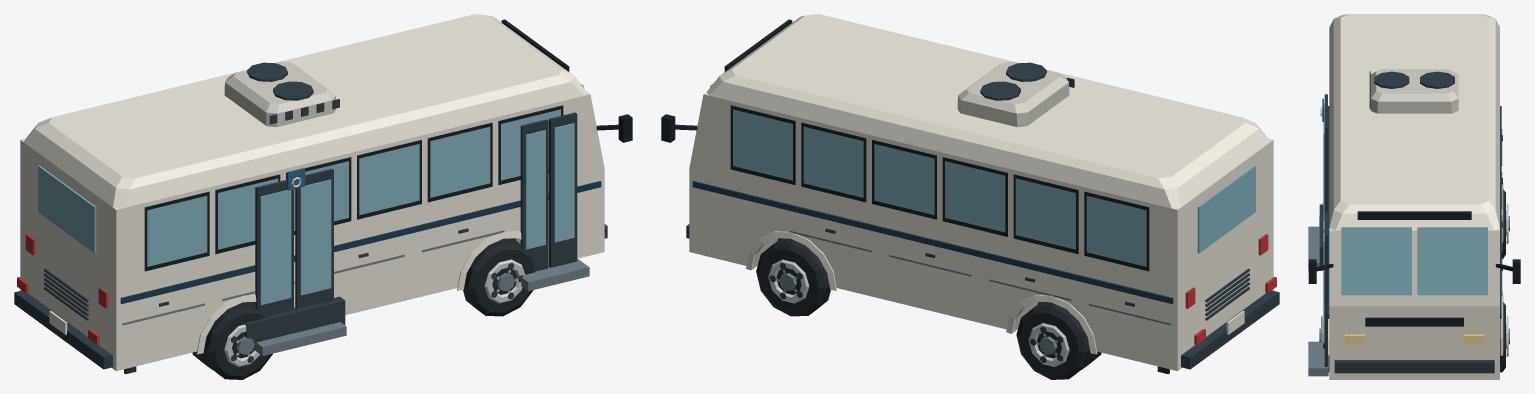
Rendered from b15_paratransit_shuttle_bus.glb.
The picture shows the model from 3 angles, left to right: view 1: azimuth 30°, elevation 25°; view 2: azimuth 150°, elevation 25°; view 3: azimuth 270°, elevation 25°; orthographic projection. The views are drawn at different scales.
Visible parts, largest first — view 1: b15_paratransit_shuttle_bus; view 2: b15_paratransit_shuttle_bus; view 3: b15_paratransit_shuttle_bus.
Part boxes in pixels (box(x1,y1,x2,y2)): b15_paratransit_shuttle_bus: box(14, 14, 632, 379); b15_paratransit_shuttle_bus: box(661, 14, 1279, 379); b15_paratransit_shuttle_bus: box(1308, 14, 1520, 379).
Bounding box in the file's own units: 7.24 × 3.24 × 2.9.
